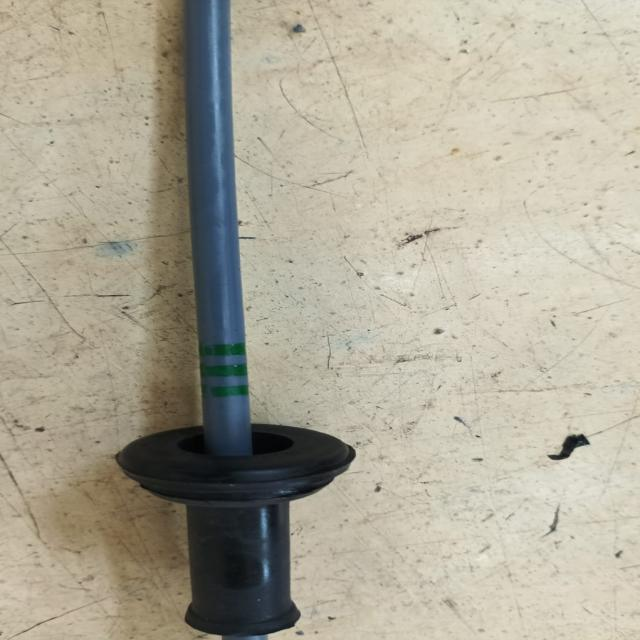green: (198, 345, 247, 400)
